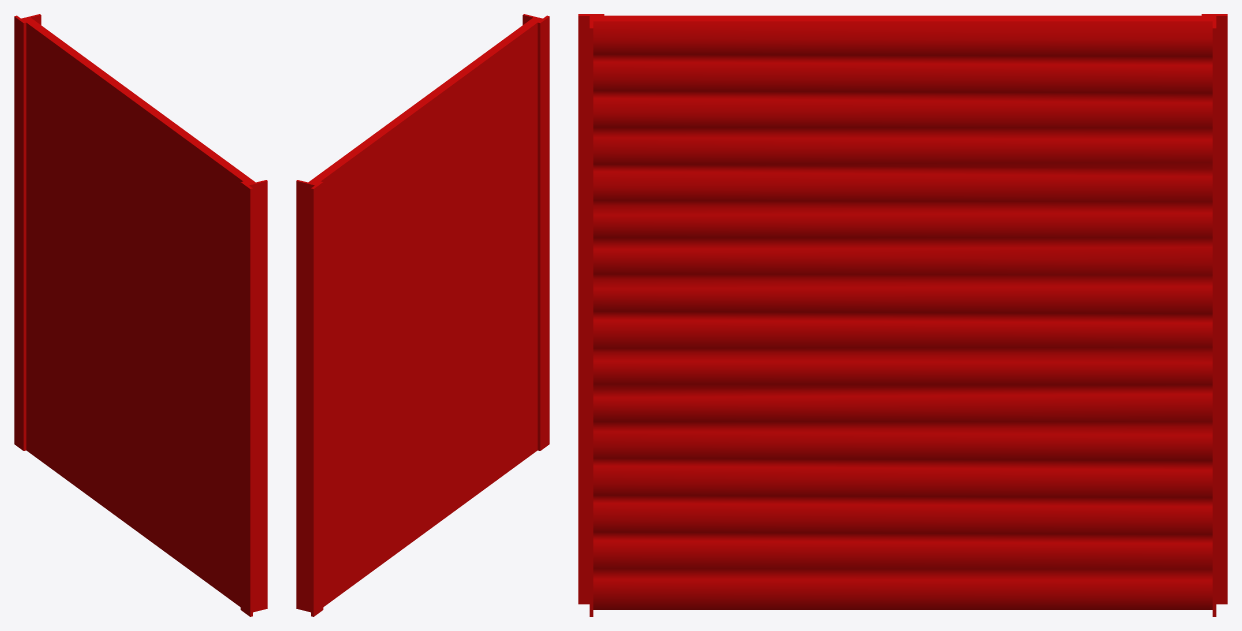
3 renders of one model, left to right at view 1: azimuth 30°, elevation 25°; view 2: azimuth 150°, elevation 25°; view 3: azimuth 270°, elevation 25°, orthographic. The views are drawn at different scales.
Visible parts, largest first — view 1: Mesh; view 2: Mesh; view 3: Mesh.
Part boxes in pixels (x1,y1,x2,y2): Mesh: (14,14,267,616); Mesh: (296,14,549,616); Mesh: (578,14,1227,616).
Size of the model in its own units: 0.2112 by 4 by 4.
